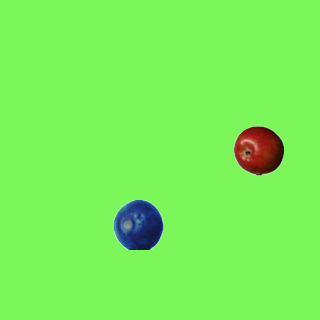Apple Braeburn: (233, 125, 283, 175)
Huckleberry: (113, 199, 163, 249)
